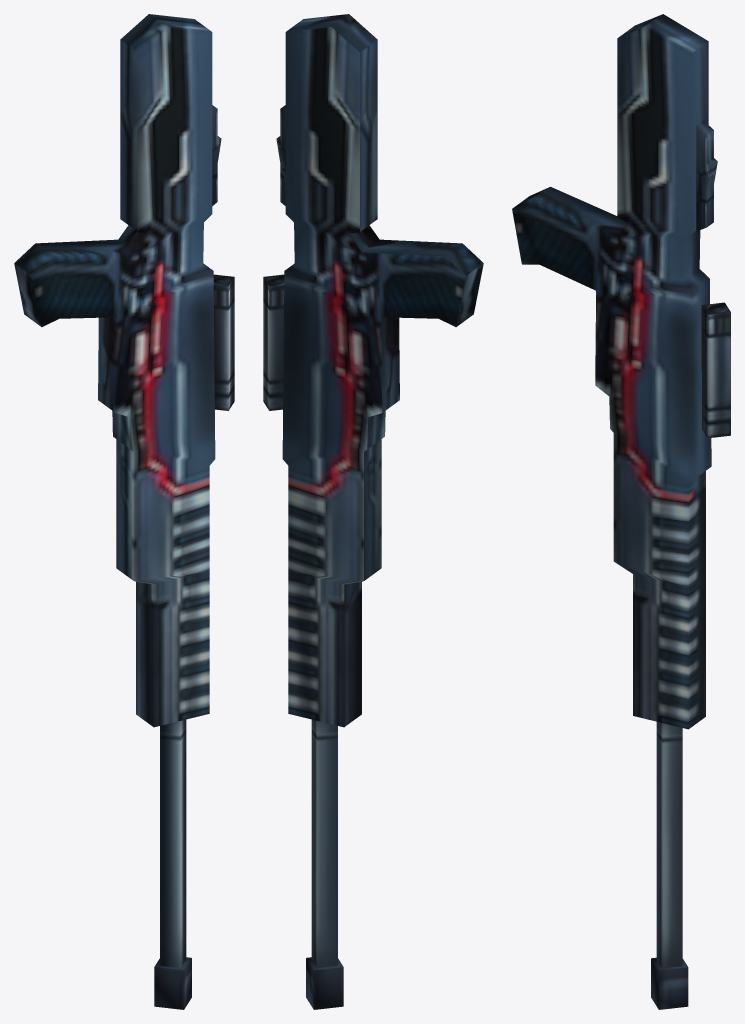
The model's file is natasha@wuqi_mesh.FBX.
3 views of the same model, side by side, from view 1: azimuth 30°, elevation 25°; view 2: azimuth 150°, elevation 25°; view 3: azimuth 330°, elevation 25° (orthographic).
Parts seen in each view (by area): view 1: natasha_wuqi; view 2: natasha_wuqi; view 3: natasha_wuqi.
Part boxes in pixels (x1=…): natasha_wuqi: x1=14, y1=14, x2=234, y2=1009; natasha_wuqi: x1=263, y1=14, x2=483, y2=1009; natasha_wuqi: x1=512, y1=14, x2=730, y2=1009.
Bounding box in the file's own units: 42.65 × 190 × 7.6.
